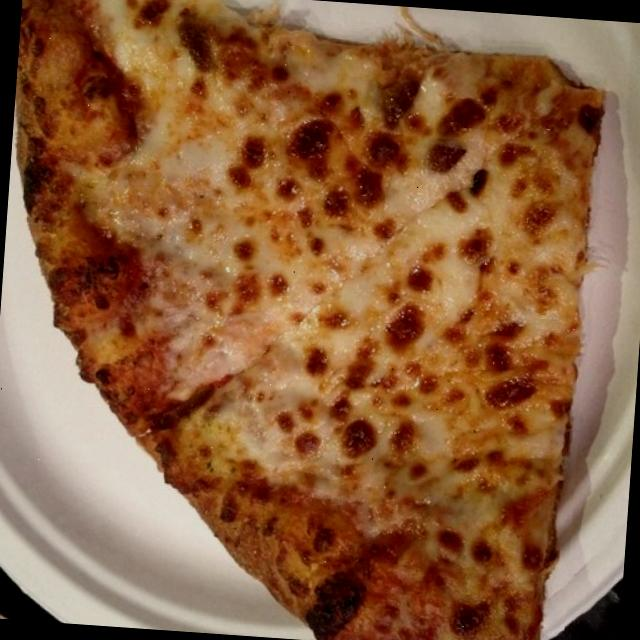pizza: (18, 0, 602, 640)
